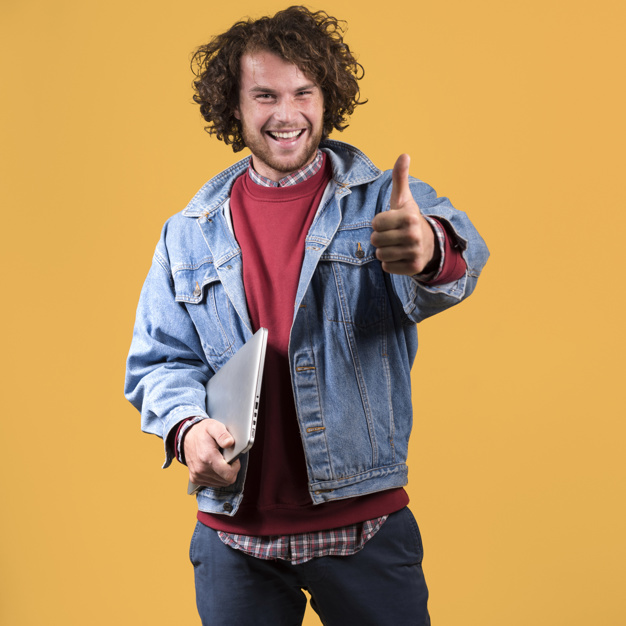thumbsup: (370, 152, 423, 276)
